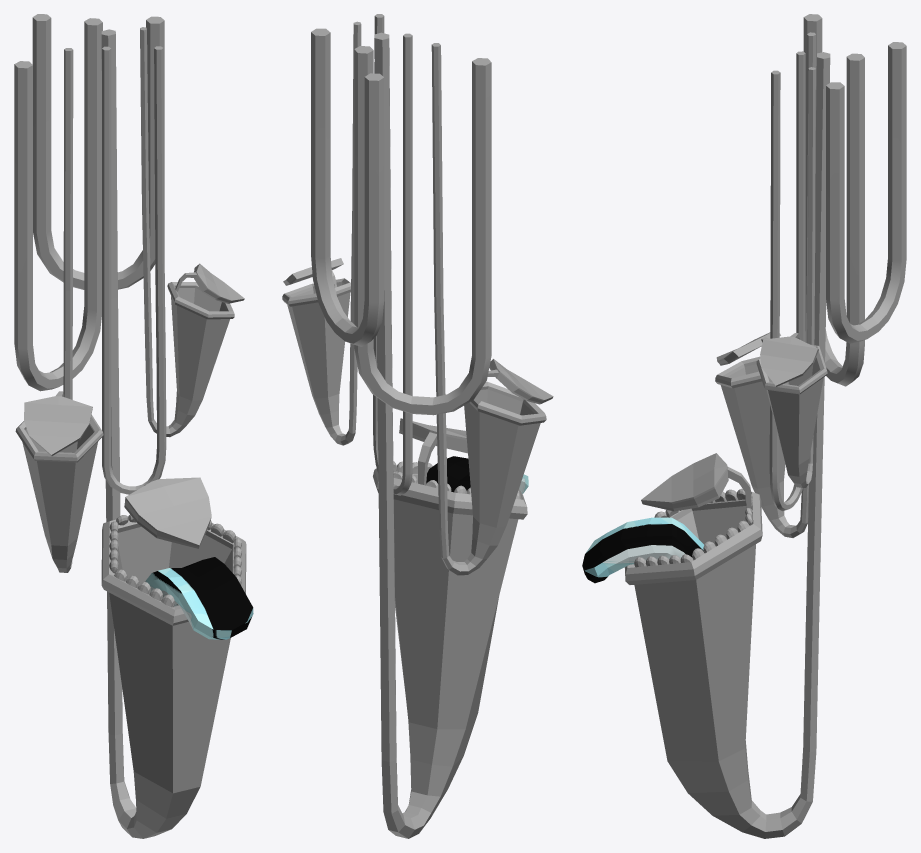
File: monsterplant_v1.fbx
3 views of the same model, side by side, from view 1: azimuth 30°, elevation 25°; view 2: azimuth 150°, elevation 25°; view 3: azimuth 270°, elevation 25° (orthographic). The views are drawn at different scales.
Visible parts, largest first — view 1: plant_v1, vine_v1, plant_v3, plant_v2, vine_v2, vine_v3, tongue, theeth; view 2: plant_v1, plant_v3, vine_v1, vine_v3, plant_v2, vine_v2, tongue, theeth; view 3: plant_v1, vine_v3, plant_v2, plant_v3, vine_v1, vine_v2, tongue, theeth.
Part boxes in pixels (<box>): plant_v1: <box>101,29,246,838</box>; vine_v1: <box>14,18,102,391</box>; plant_v3: <box>15,48,103,572</box>; plant_v2: <box>140,27,244,437</box>; vine_v2: <box>102,46,166,494</box>; vine_v3: <box>32,14,164,289</box>; tongue: <box>145,557,253,639</box>; theeth: <box>109,514,241,607</box>; plant_v1: <box>373,32,527,838</box>; plant_v3: <box>431,43,553,575</box>; vine_v1: <box>354,46,491,415</box>; vine_v3: <box>311,28,384,346</box>; plant_v2: <box>282,21,361,445</box>; vine_v2: <box>373,14,412,495</box>; tongue: <box>426,456,528,493</box>; theeth: <box>393,461,521,499</box>; plant_v1: <box>624,52,830,838</box>; vine_v3: <box>826,42,906,343</box>; plant_v2: <box>756,67,827,487</box>; plant_v3: <box>715,32,815,537</box>; vine_v1: <box>803,14,864,386</box>; vine_v2: <box>769,51,805,511</box>; tongue: <box>582,517,704,583</box>; theeth: <box>634,488,752,567</box>.
Size of the model in its own units: 3.45 by 11.21 by 4.22.
